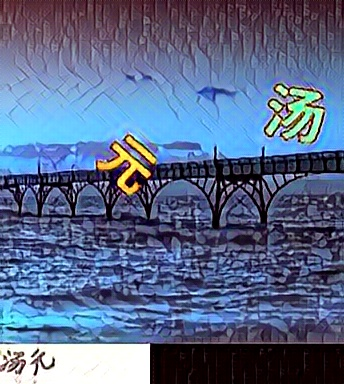CCC0: (261, 81, 326, 145)
D4AA: (94, 131, 159, 195)
